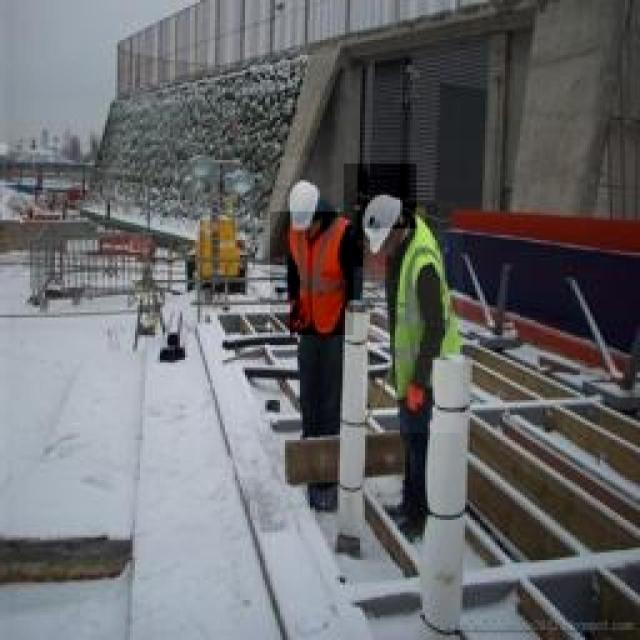Helmet: (264, 156, 336, 258), (344, 164, 416, 266)
Safety Vest: (364, 228, 464, 433), (270, 212, 354, 335)
